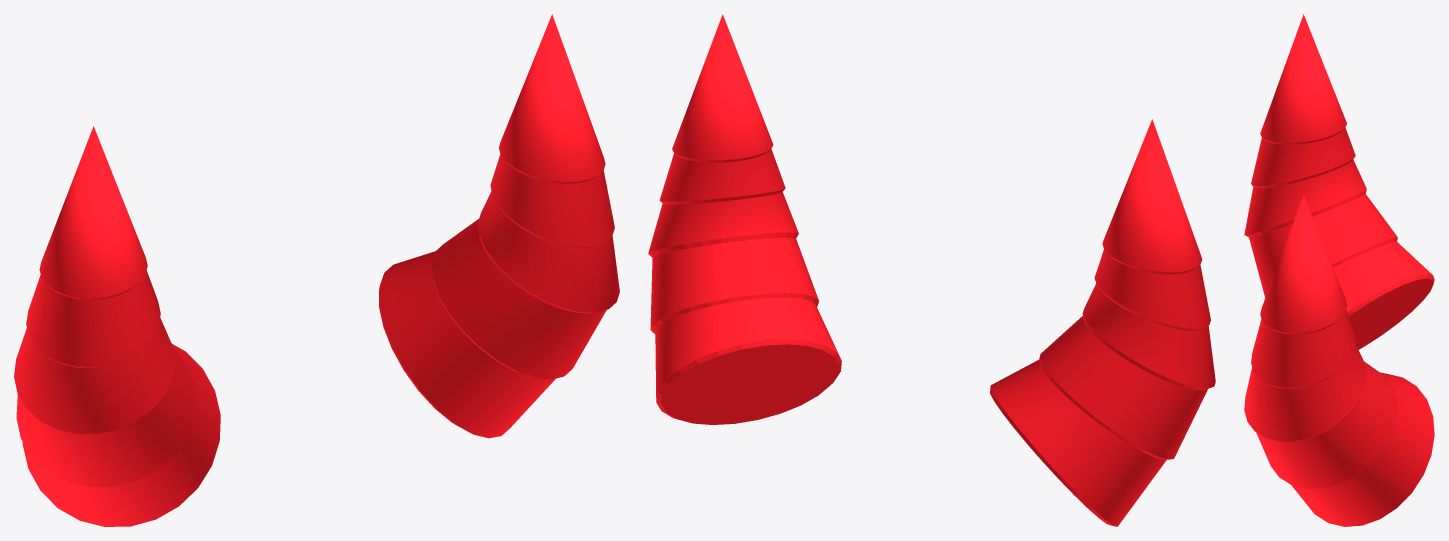
The model's file is horns.glb.
3 views of the same model, side by side, from view 1: azimuth 30°, elevation 25°; view 2: azimuth 150°, elevation 25°; view 3: azimuth 270°, elevation 25° (orthographic). The views are drawn at different scales.
Parts seen in each view (by area): view 1: Horn; view 2: Horn; view 3: Horn.
Part boxes in pixels (bbox=[...]): Horn: bbox=[14, 14, 619, 526]; Horn: bbox=[648, 14, 1215, 526]; Horn: bbox=[1244, 14, 1434, 526].
Bounding box in the file's own units: 299 × 204 × 104.
